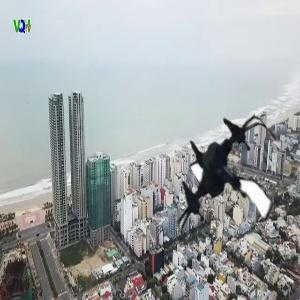drone: (158, 112, 292, 246)
